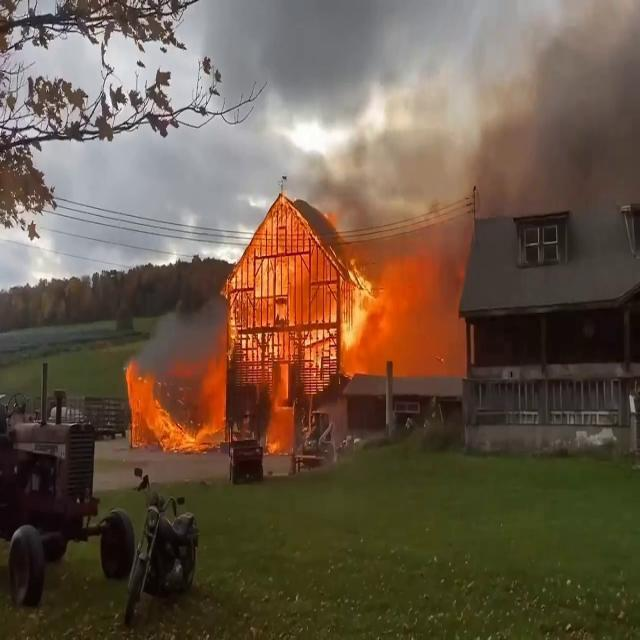Fire: (121, 352, 231, 454), (329, 248, 393, 380)
Smoke: (343, 142, 501, 370), (491, 0, 640, 236)
